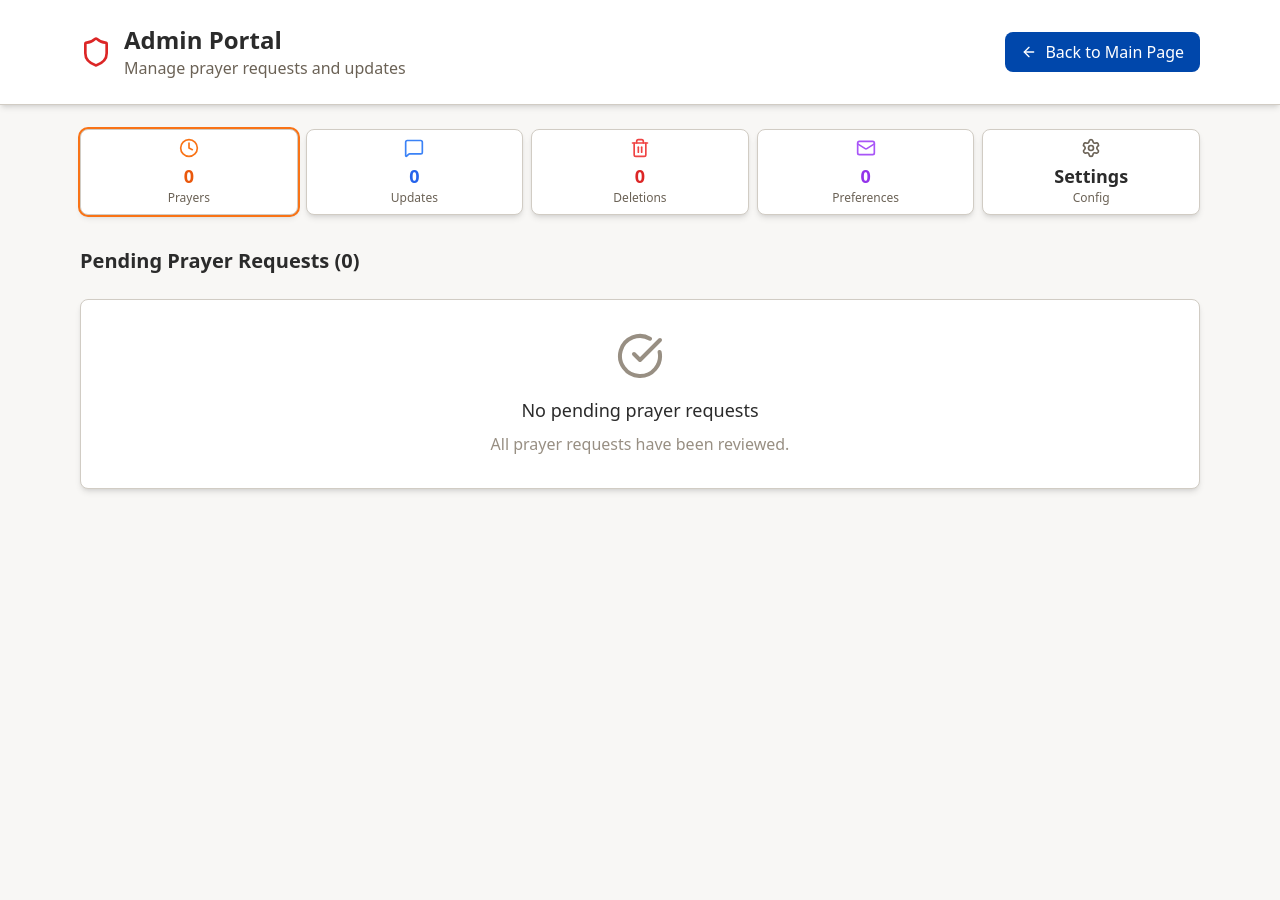
AdminPortal › Settings Tab › displays settings components when on settings tab
Click the button "Settings Config" at coordinates (1091, 172), box [982,129,1200,215]
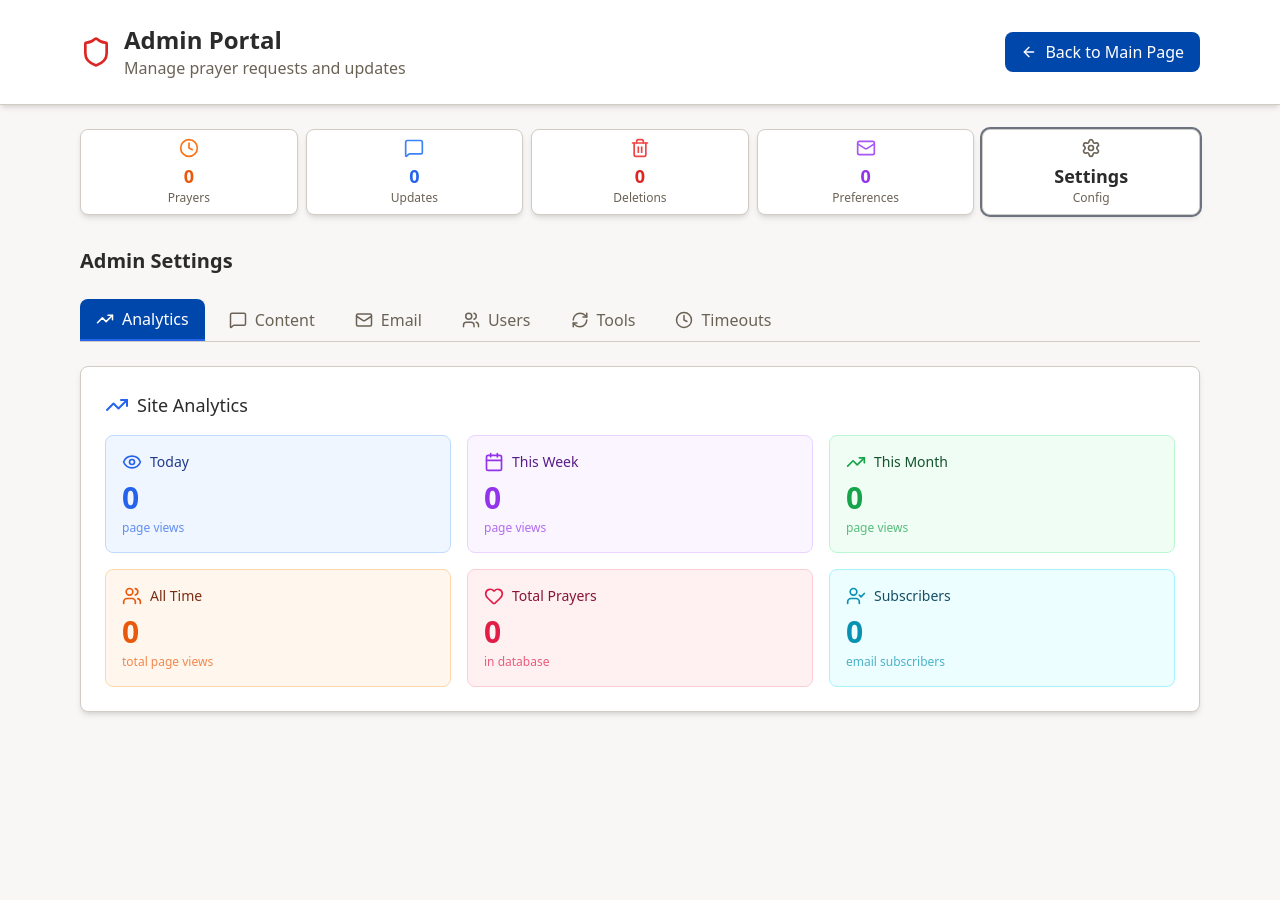
Expected: the heading "Admin Settings" is shown, [80,247,233,274]
